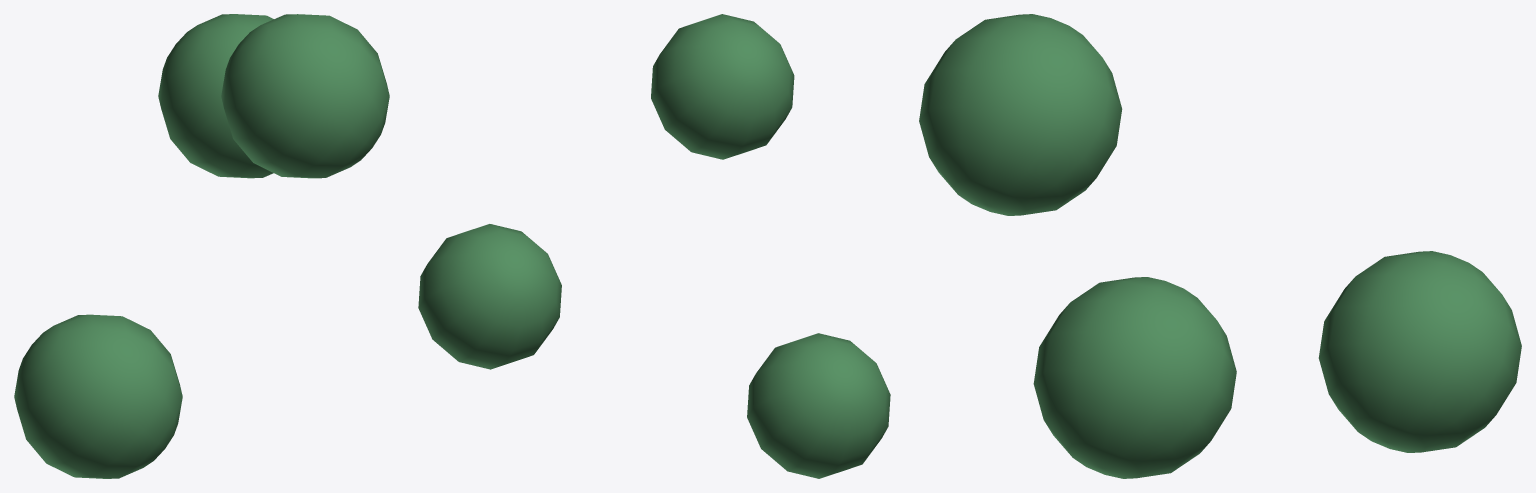
3 renders of one model, left to right at view 1: azimuth 30°, elevation 25°; view 2: azimuth 150°, elevation 25°; view 3: azimuth 270°, elevation 25°, orthographic. The views are drawn at different scales.
Visible parts, largest first — view 1: 左侧颊肌淋巴结; view 2: 左侧颊肌淋巴结; view 3: 左侧颊肌淋巴结.
Part boxes in pixels (bbox=[...]): 左侧颊肌淋巴结: bbox=[14, 14, 389, 478]; 左侧颊肌淋巴结: bbox=[418, 14, 890, 478]; 左侧颊肌淋巴结: bbox=[919, 14, 1521, 478].
Bounding box in the file's own units: 0.0106 × 0.0112 × 0.0113.
